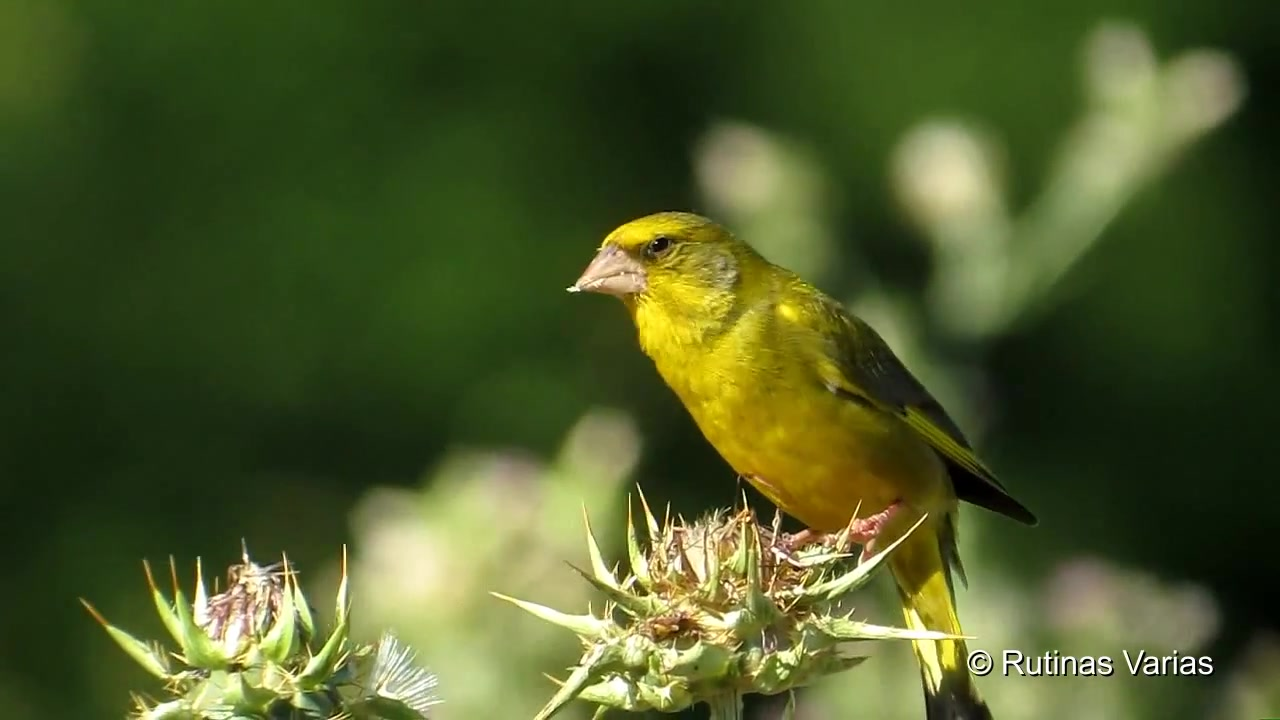bird: (568, 211, 1041, 720)
